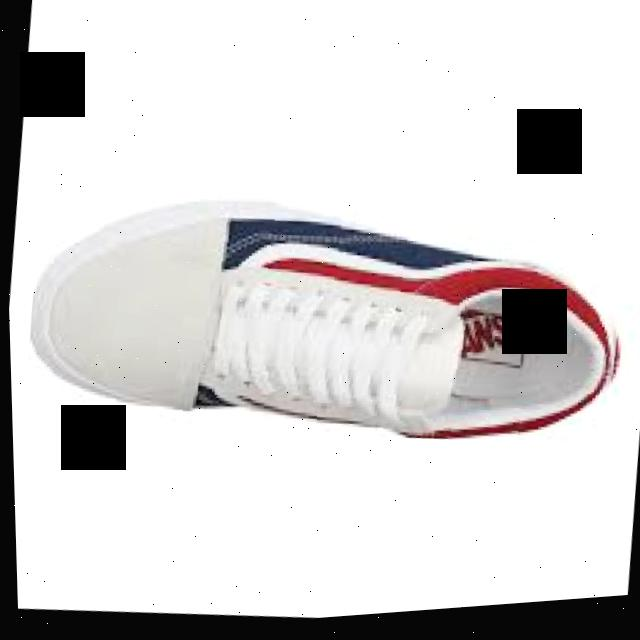shoe: (14, 151, 637, 487)
